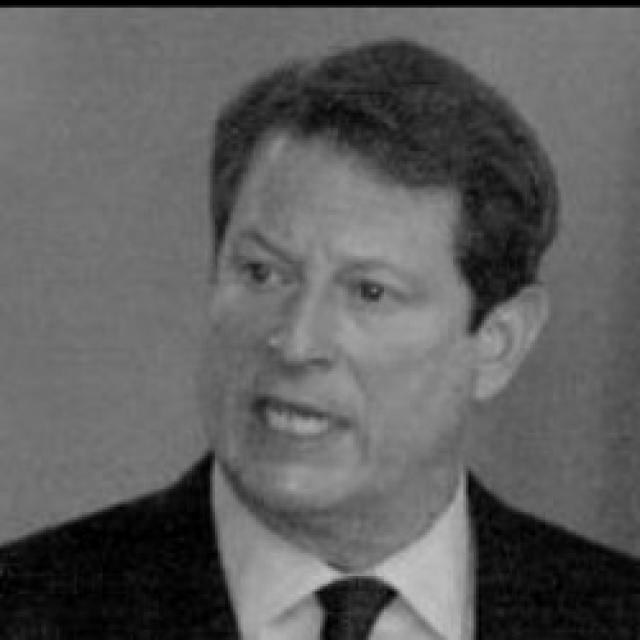real: (209, 130, 473, 516), (234, 234, 427, 332)
